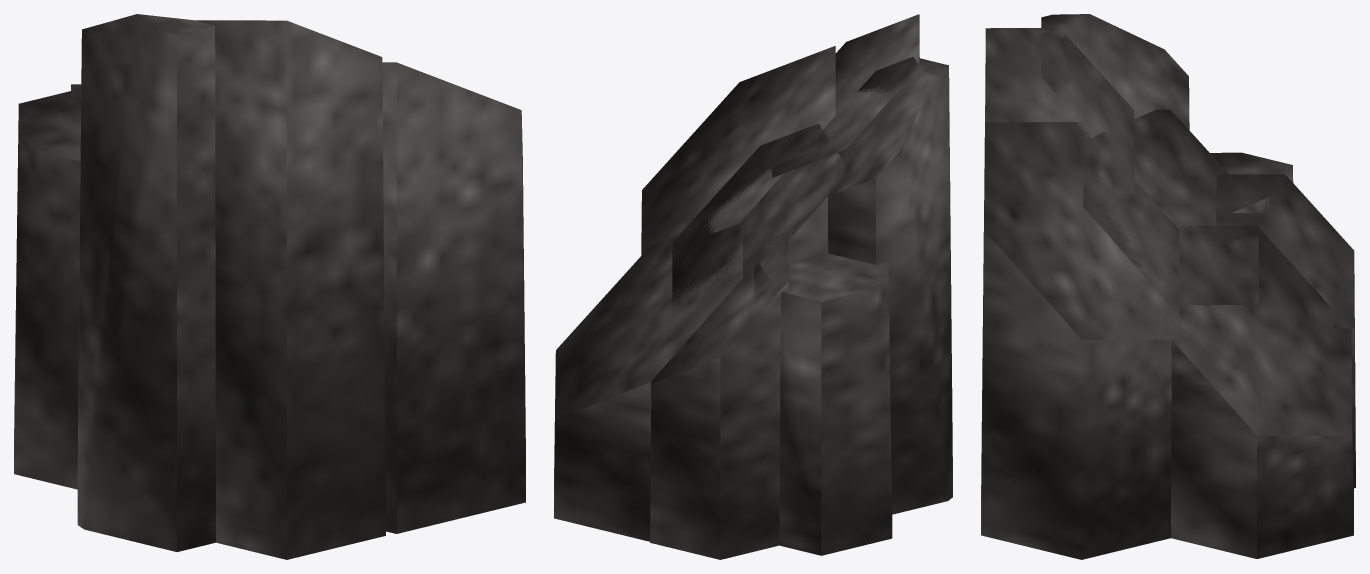
Rendered from boulder_4.glb.
3 renders of one model, left to right at view 1: azimuth 30°, elevation 25°; view 2: azimuth 150°, elevation 25°; view 3: azimuth 270°, elevation 25°, orthographic. The views are drawn at different scales.
Visible parts, largest first — view 1: boulder_4; view 2: boulder_4; view 3: boulder_4.
Part boxes in pixels (x1=…): boulder_4: x1=14, y1=14, x2=525, y2=559; boulder_4: x1=554, y1=14, x2=952, y2=559; boulder_4: x1=981, y1=14, x2=1355, y2=559.
Bounding box in the file's own units: 1.8 × 2.18 × 1.77.
Materials: 1 (1 with a texture image).
